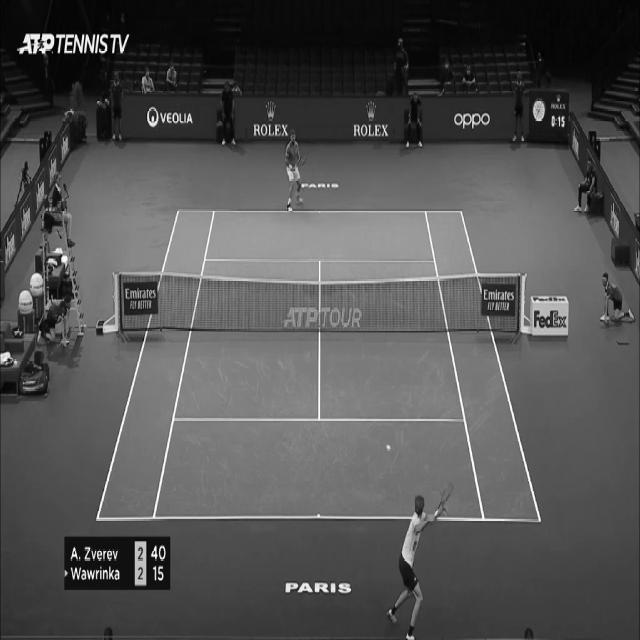tennis-court: (95, 209, 542, 522)
